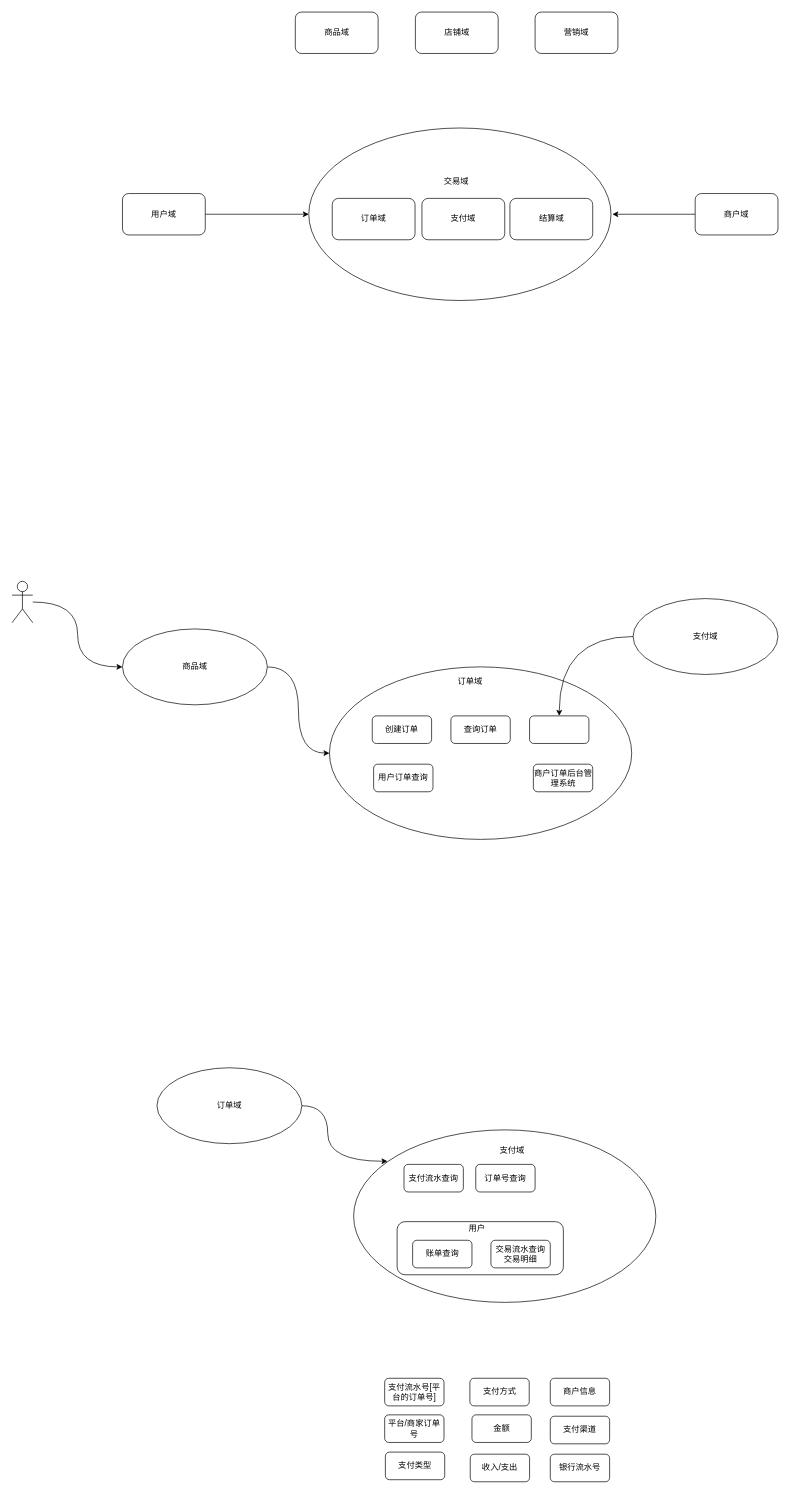
The diagram is 790 pixels wide and 1494 high, and some of its shapes have lost their labels. The shapes that lost their labels are listed below. From the top down, each one's centre as x and y in pixels, then its label:
At [22,602]: "Actor".
At [559,729]: "修改订单".
